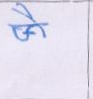e_matra: (12, 3, 38, 23)
